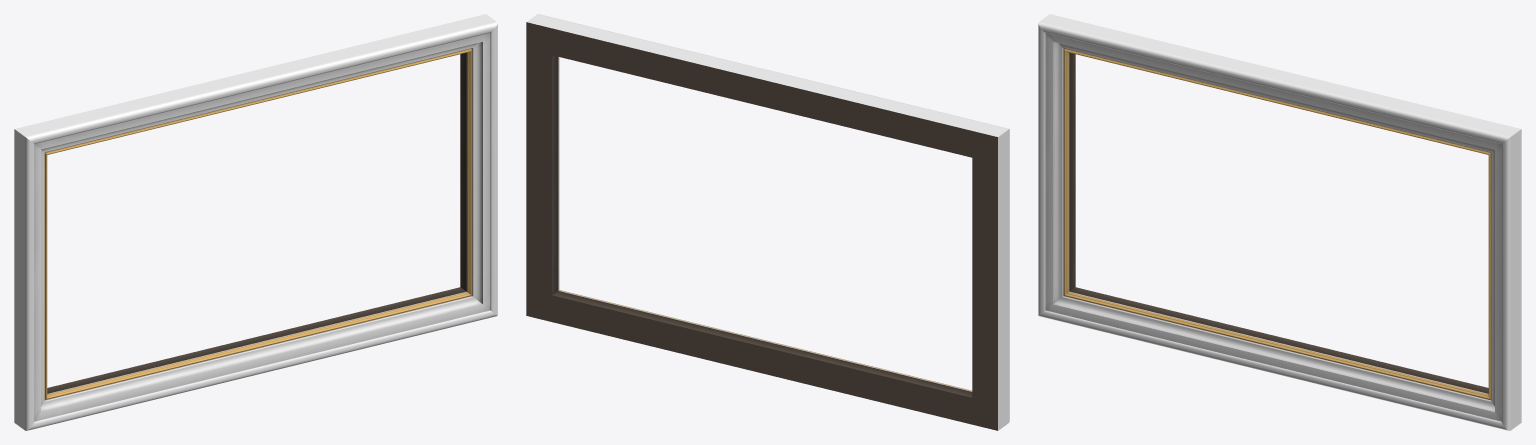
Rendered from 09-demon-sidyashchiy.glb.
The picture shows the model from 3 angles, left to right: view 1: azimuth 30°, elevation 25°; view 2: azimuth 150°, elevation 25°; view 3: azimuth 330°, elevation 25°; orthographic projection.
Visible parts, largest first — view 1: Frame; view 2: Frame; view 3: Frame.
Part boxes in pixels (x1,y1,x2,y2): Frame: (14,14,497,430); Frame: (526,14,1009,430); Frame: (1038,14,1521,430).
Bounding box in the file's own units: 2.02 × 1.2 × 0.0956.
